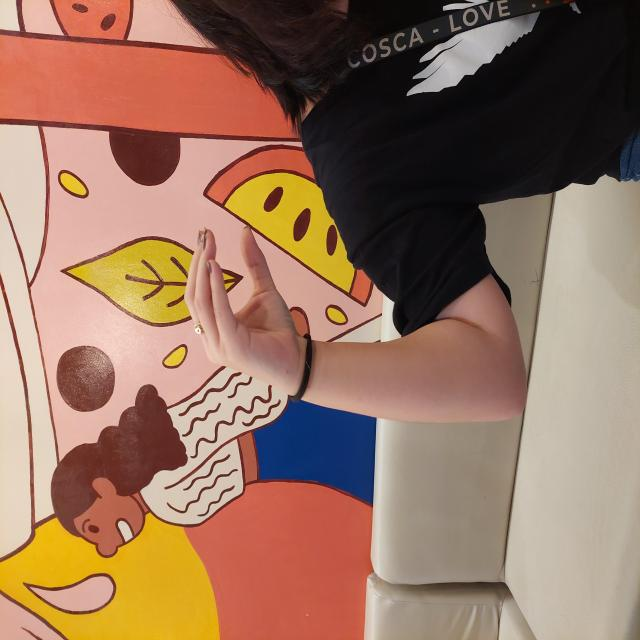C: (146, 205, 331, 419)
